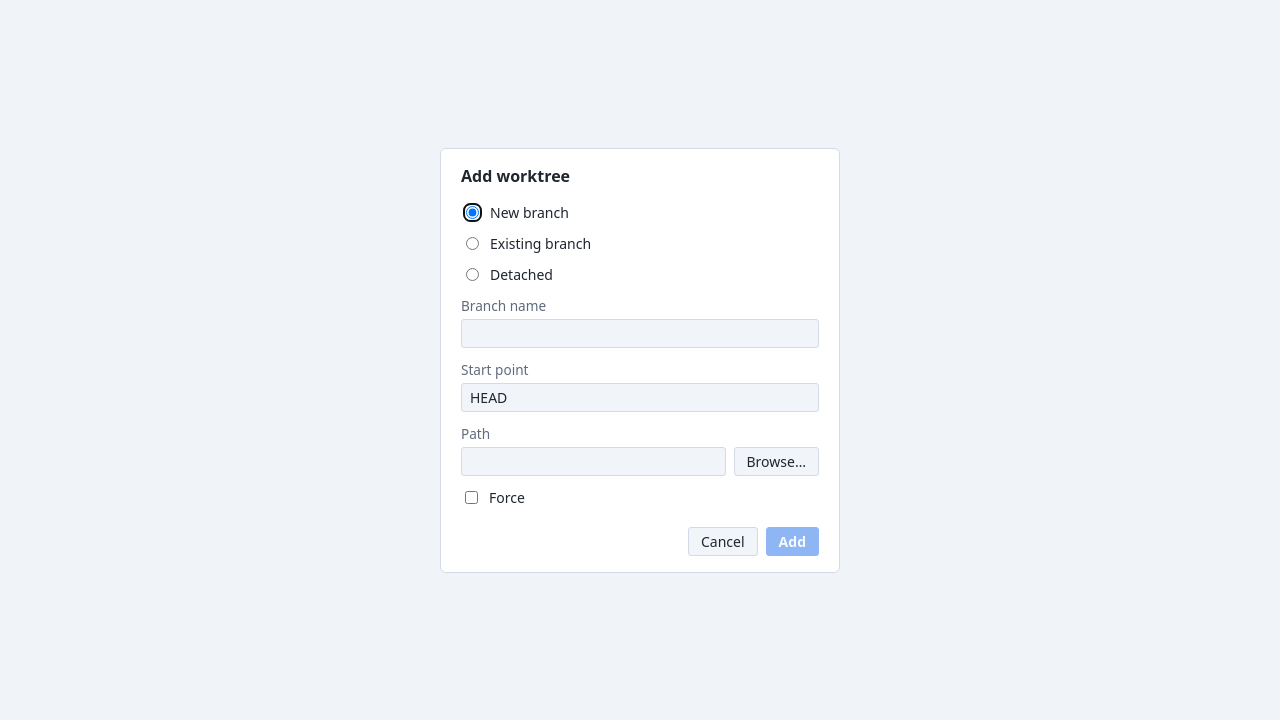
Test case: AddWorktreeDialog › validates the path is absolute
The image size is (1280, 720).
Type "x" into the field labelled "Branch name" at (640, 333), box [461,318,819,348]
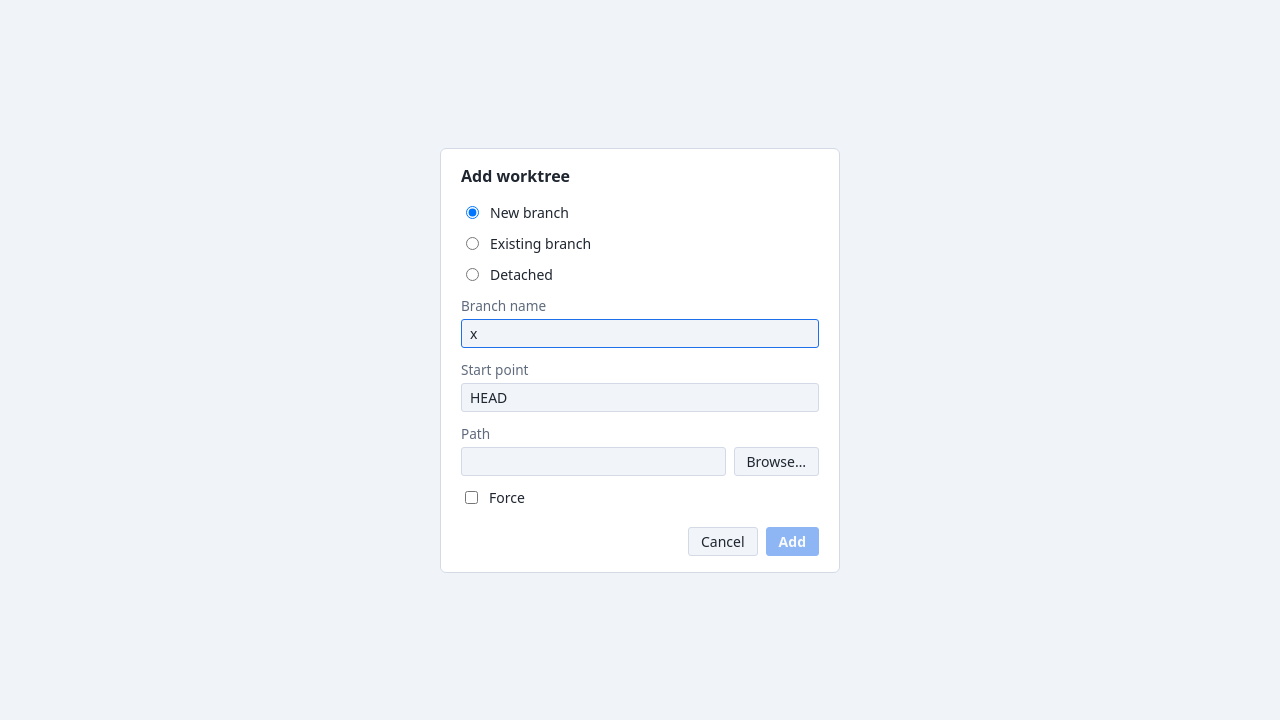
Type "rel/path" into the field labelled "Path" at (593, 461), box [461,446,726,476]
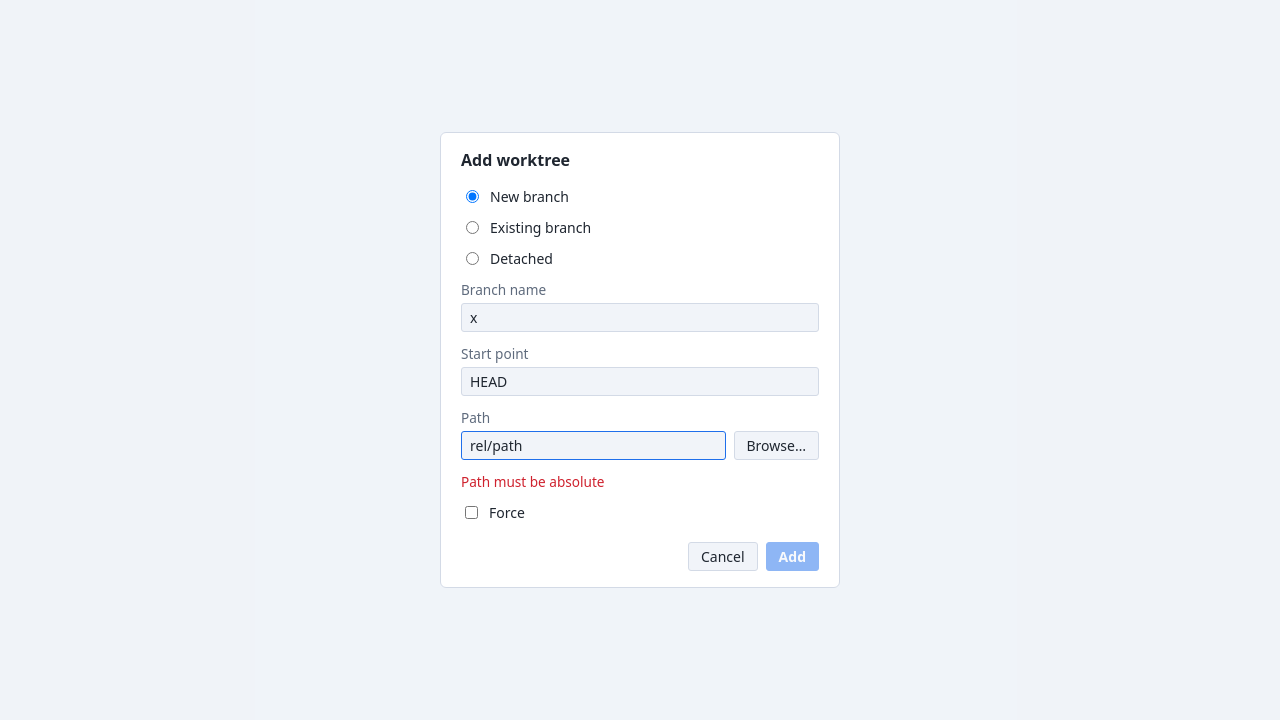
Expected: the button "Add" is disabled, [766,542,819,571]
Result: the message shows "absolute" at [461,472,604,491]
